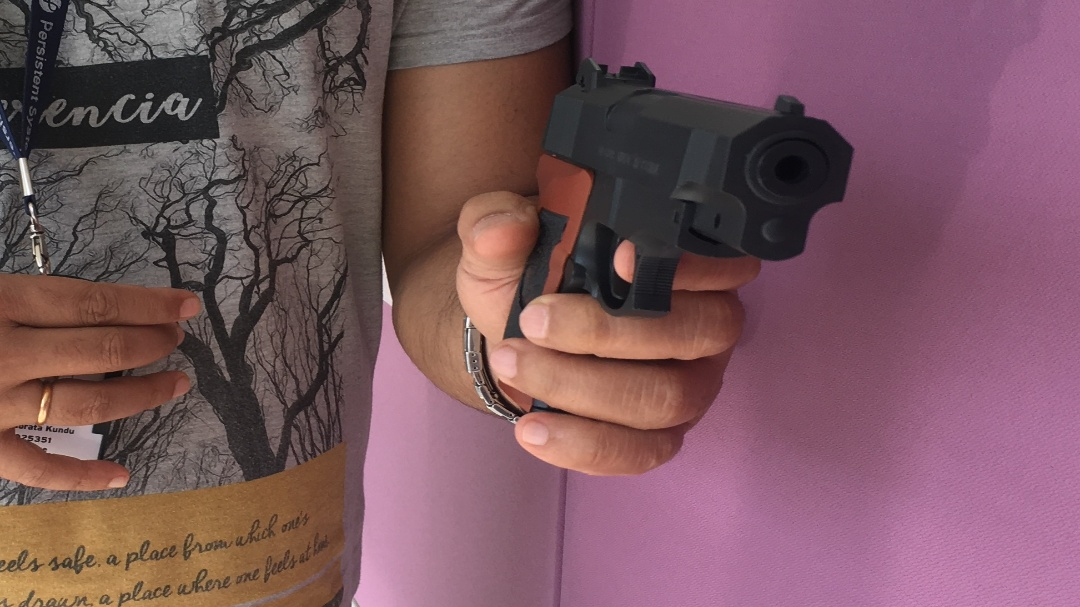gun: (532, 55, 862, 325)
